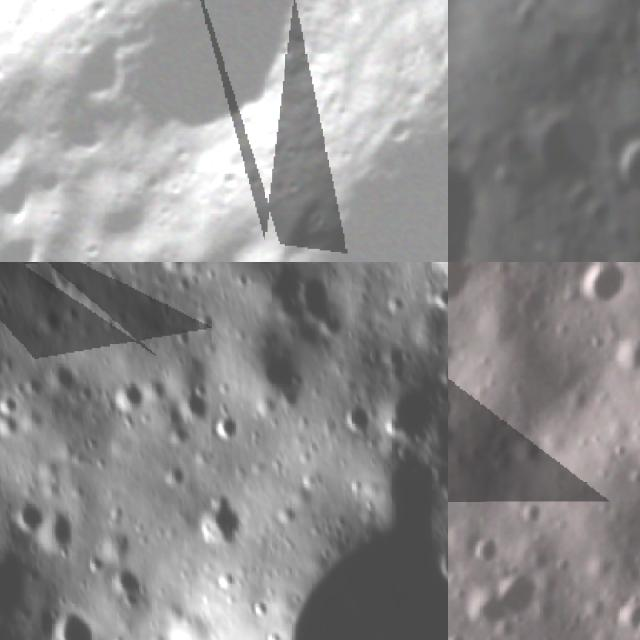crater: (526, 108, 611, 190), (448, 140, 500, 237), (489, 554, 555, 623), (497, 418, 563, 484), (298, 269, 354, 346), (570, 262, 640, 317), (196, 492, 253, 550), (387, 381, 439, 443), (462, 520, 514, 574), (448, 262, 494, 322), (508, 486, 560, 538), (602, 325, 640, 386), (41, 507, 83, 558), (614, 129, 640, 203), (49, 607, 105, 640), (0, 228, 49, 262), (448, 0, 467, 85), (181, 386, 216, 424), (342, 397, 376, 436), (115, 566, 154, 600), (114, 378, 150, 414), (15, 498, 51, 534), (36, 305, 72, 339), (578, 196, 616, 228), (50, 359, 82, 394), (448, 379, 466, 439), (213, 413, 245, 442), (198, 308, 220, 339), (166, 461, 192, 486), (0, 411, 23, 438), (0, 393, 25, 416), (438, 535, 448, 589), (629, 0, 640, 37), (163, 262, 187, 277), (436, 282, 448, 308)
